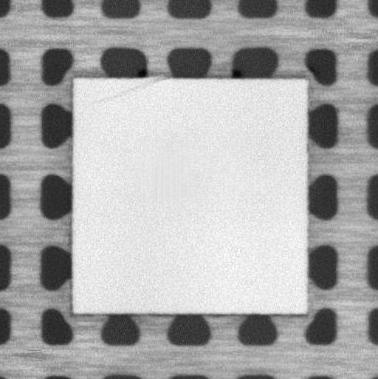DIE_CRACK: (94, 78, 166, 103)
